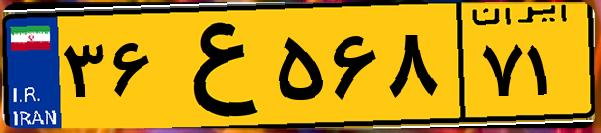1: (525, 38, 570, 115)
3: (57, 26, 110, 100)
5: (270, 28, 330, 110)
6: (330, 28, 385, 110), (110, 28, 158, 98)
7: (475, 38, 525, 113)
8: (385, 28, 445, 110)
ع: (158, 12, 270, 120)
